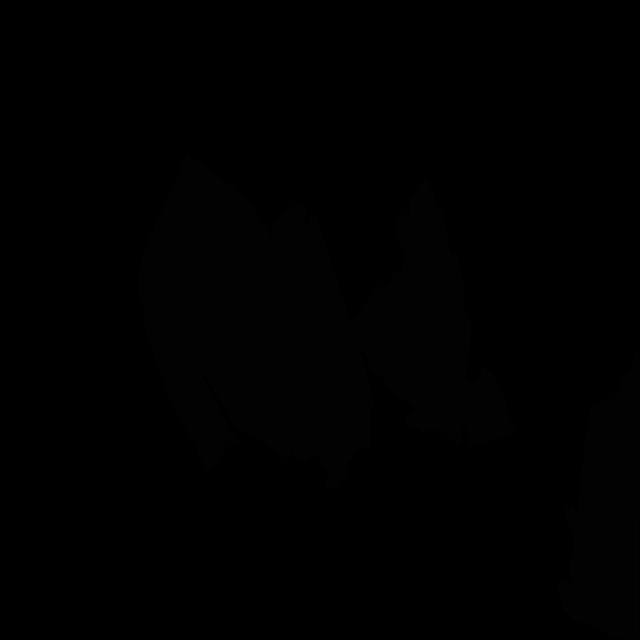cardboard: (351, 177, 516, 448), (142, 153, 287, 440), (260, 202, 375, 490), (138, 256, 238, 473), (558, 464, 640, 640), (578, 348, 640, 525)
